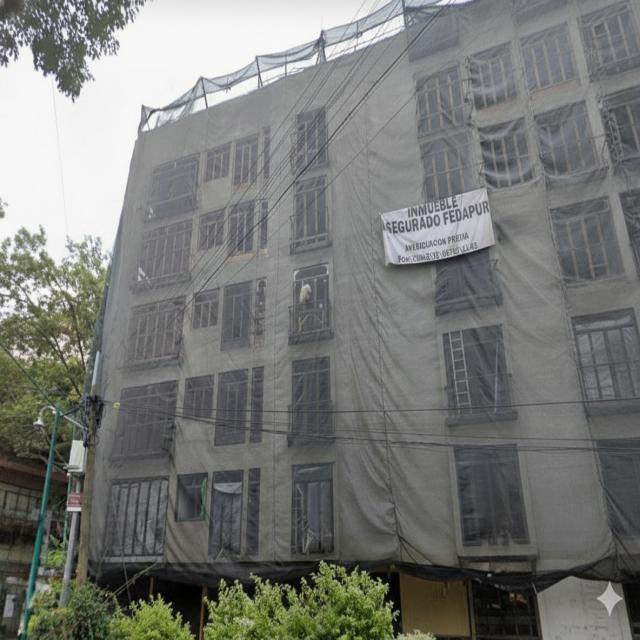stamps: (380, 189, 495, 265)
